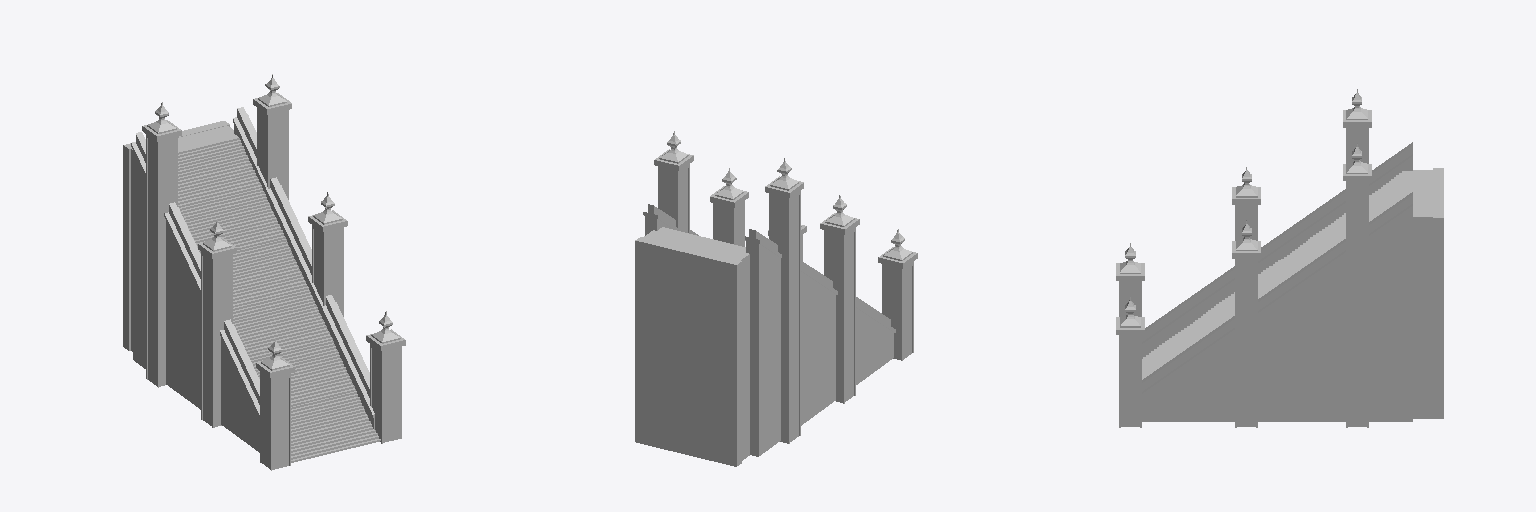
The model's file is stairs3.obj.
3 renders of one model, left to right at view 1: azimuth 30°, elevation 25°; view 2: azimuth 150°, elevation 25°; view 3: azimuth 270°, elevation 25°, orthographic.
Visible parts, largest first — view 1: Landscape; view 2: Landscape; view 3: Landscape.
Part boxes in pixels (bbox=[...]): Landscape: bbox=[123, 74, 405, 470]; Landscape: bbox=[635, 131, 917, 466]; Landscape: bbox=[1116, 89, 1443, 427].
Size of the model in its own units: 2.37 by 4.67 by 4.97.